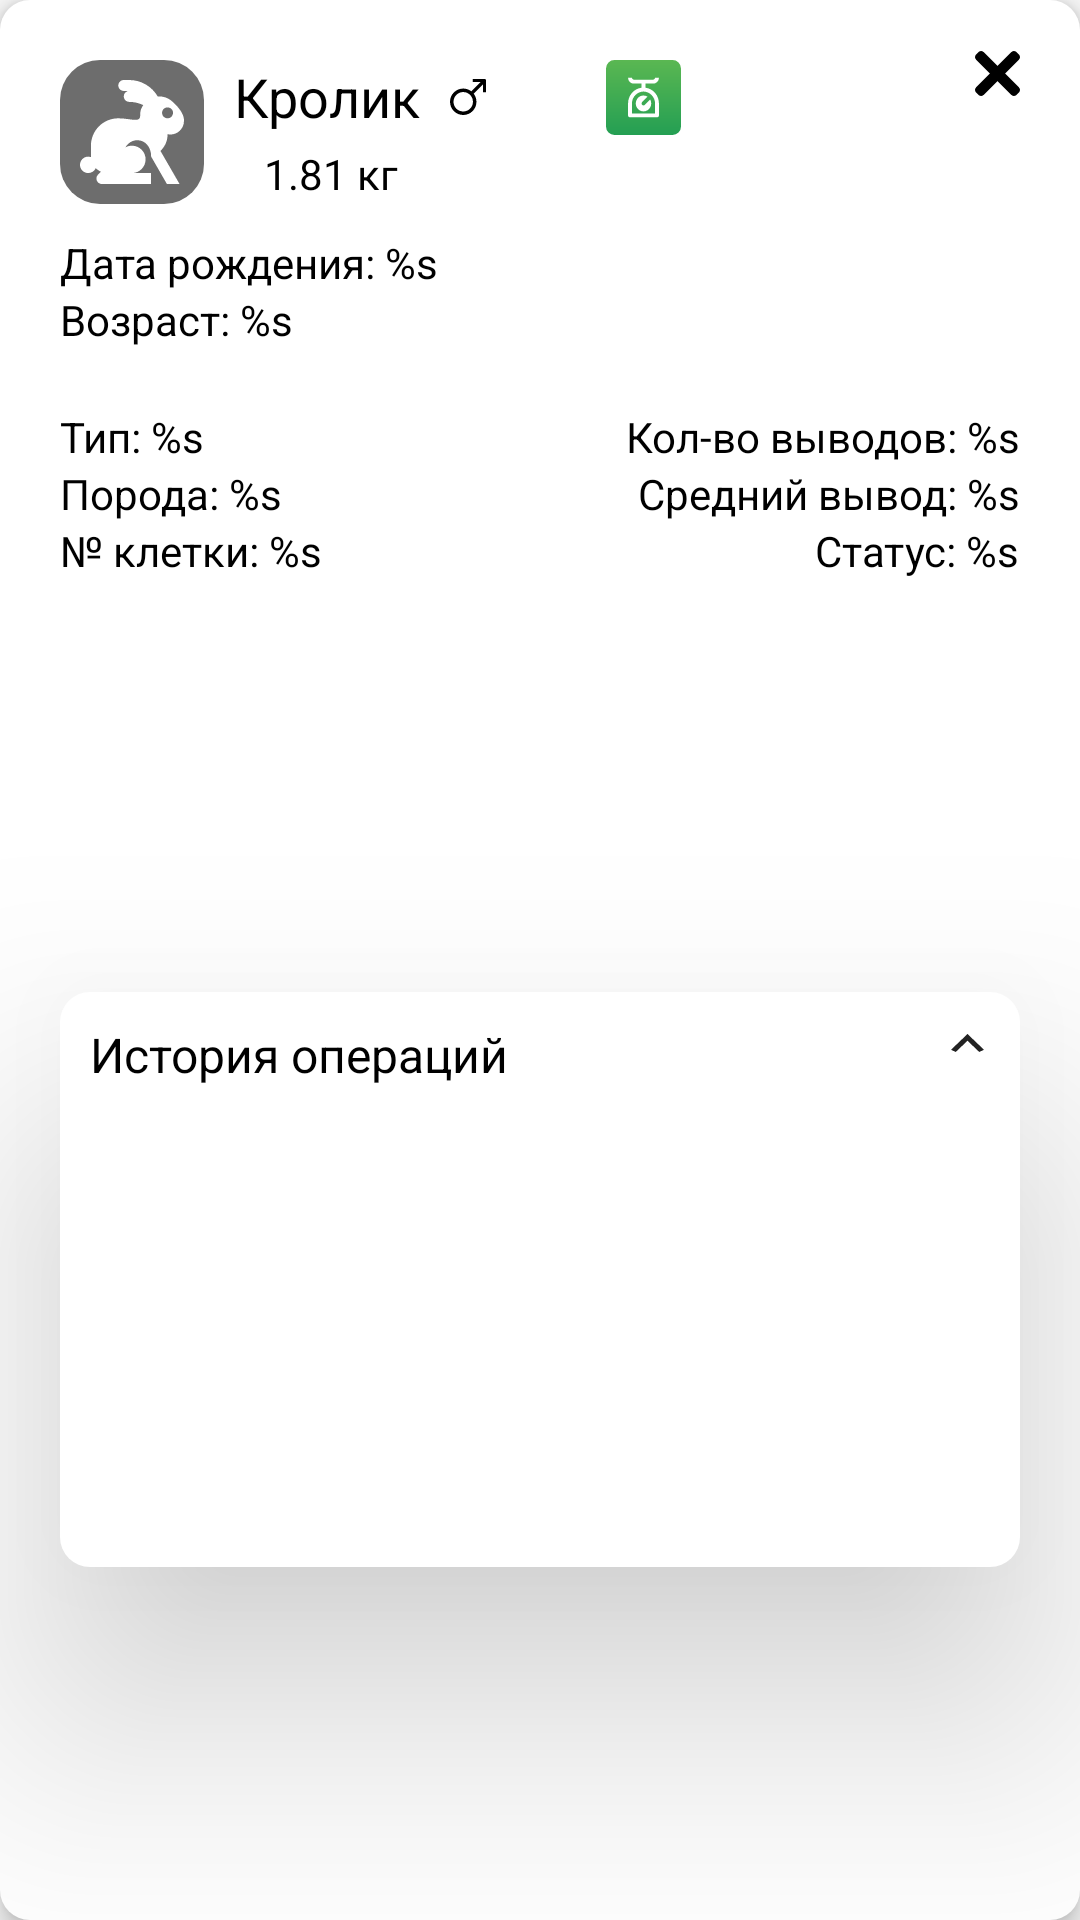

Where icons sit on this 1080px x 1920px app screen, as region(x1, y1, x2, y2):
close menu: region(975, 51, 1020, 96)
gender male: region(450, 79, 486, 115)
rabbit label: region(60, 60, 204, 204)
weigh: region(606, 60, 681, 135)
